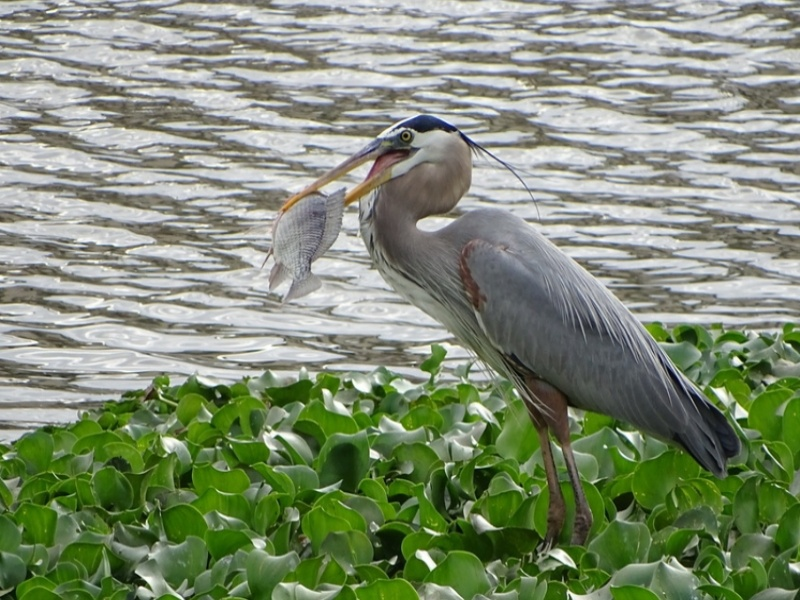heron: (282, 111, 747, 558)
